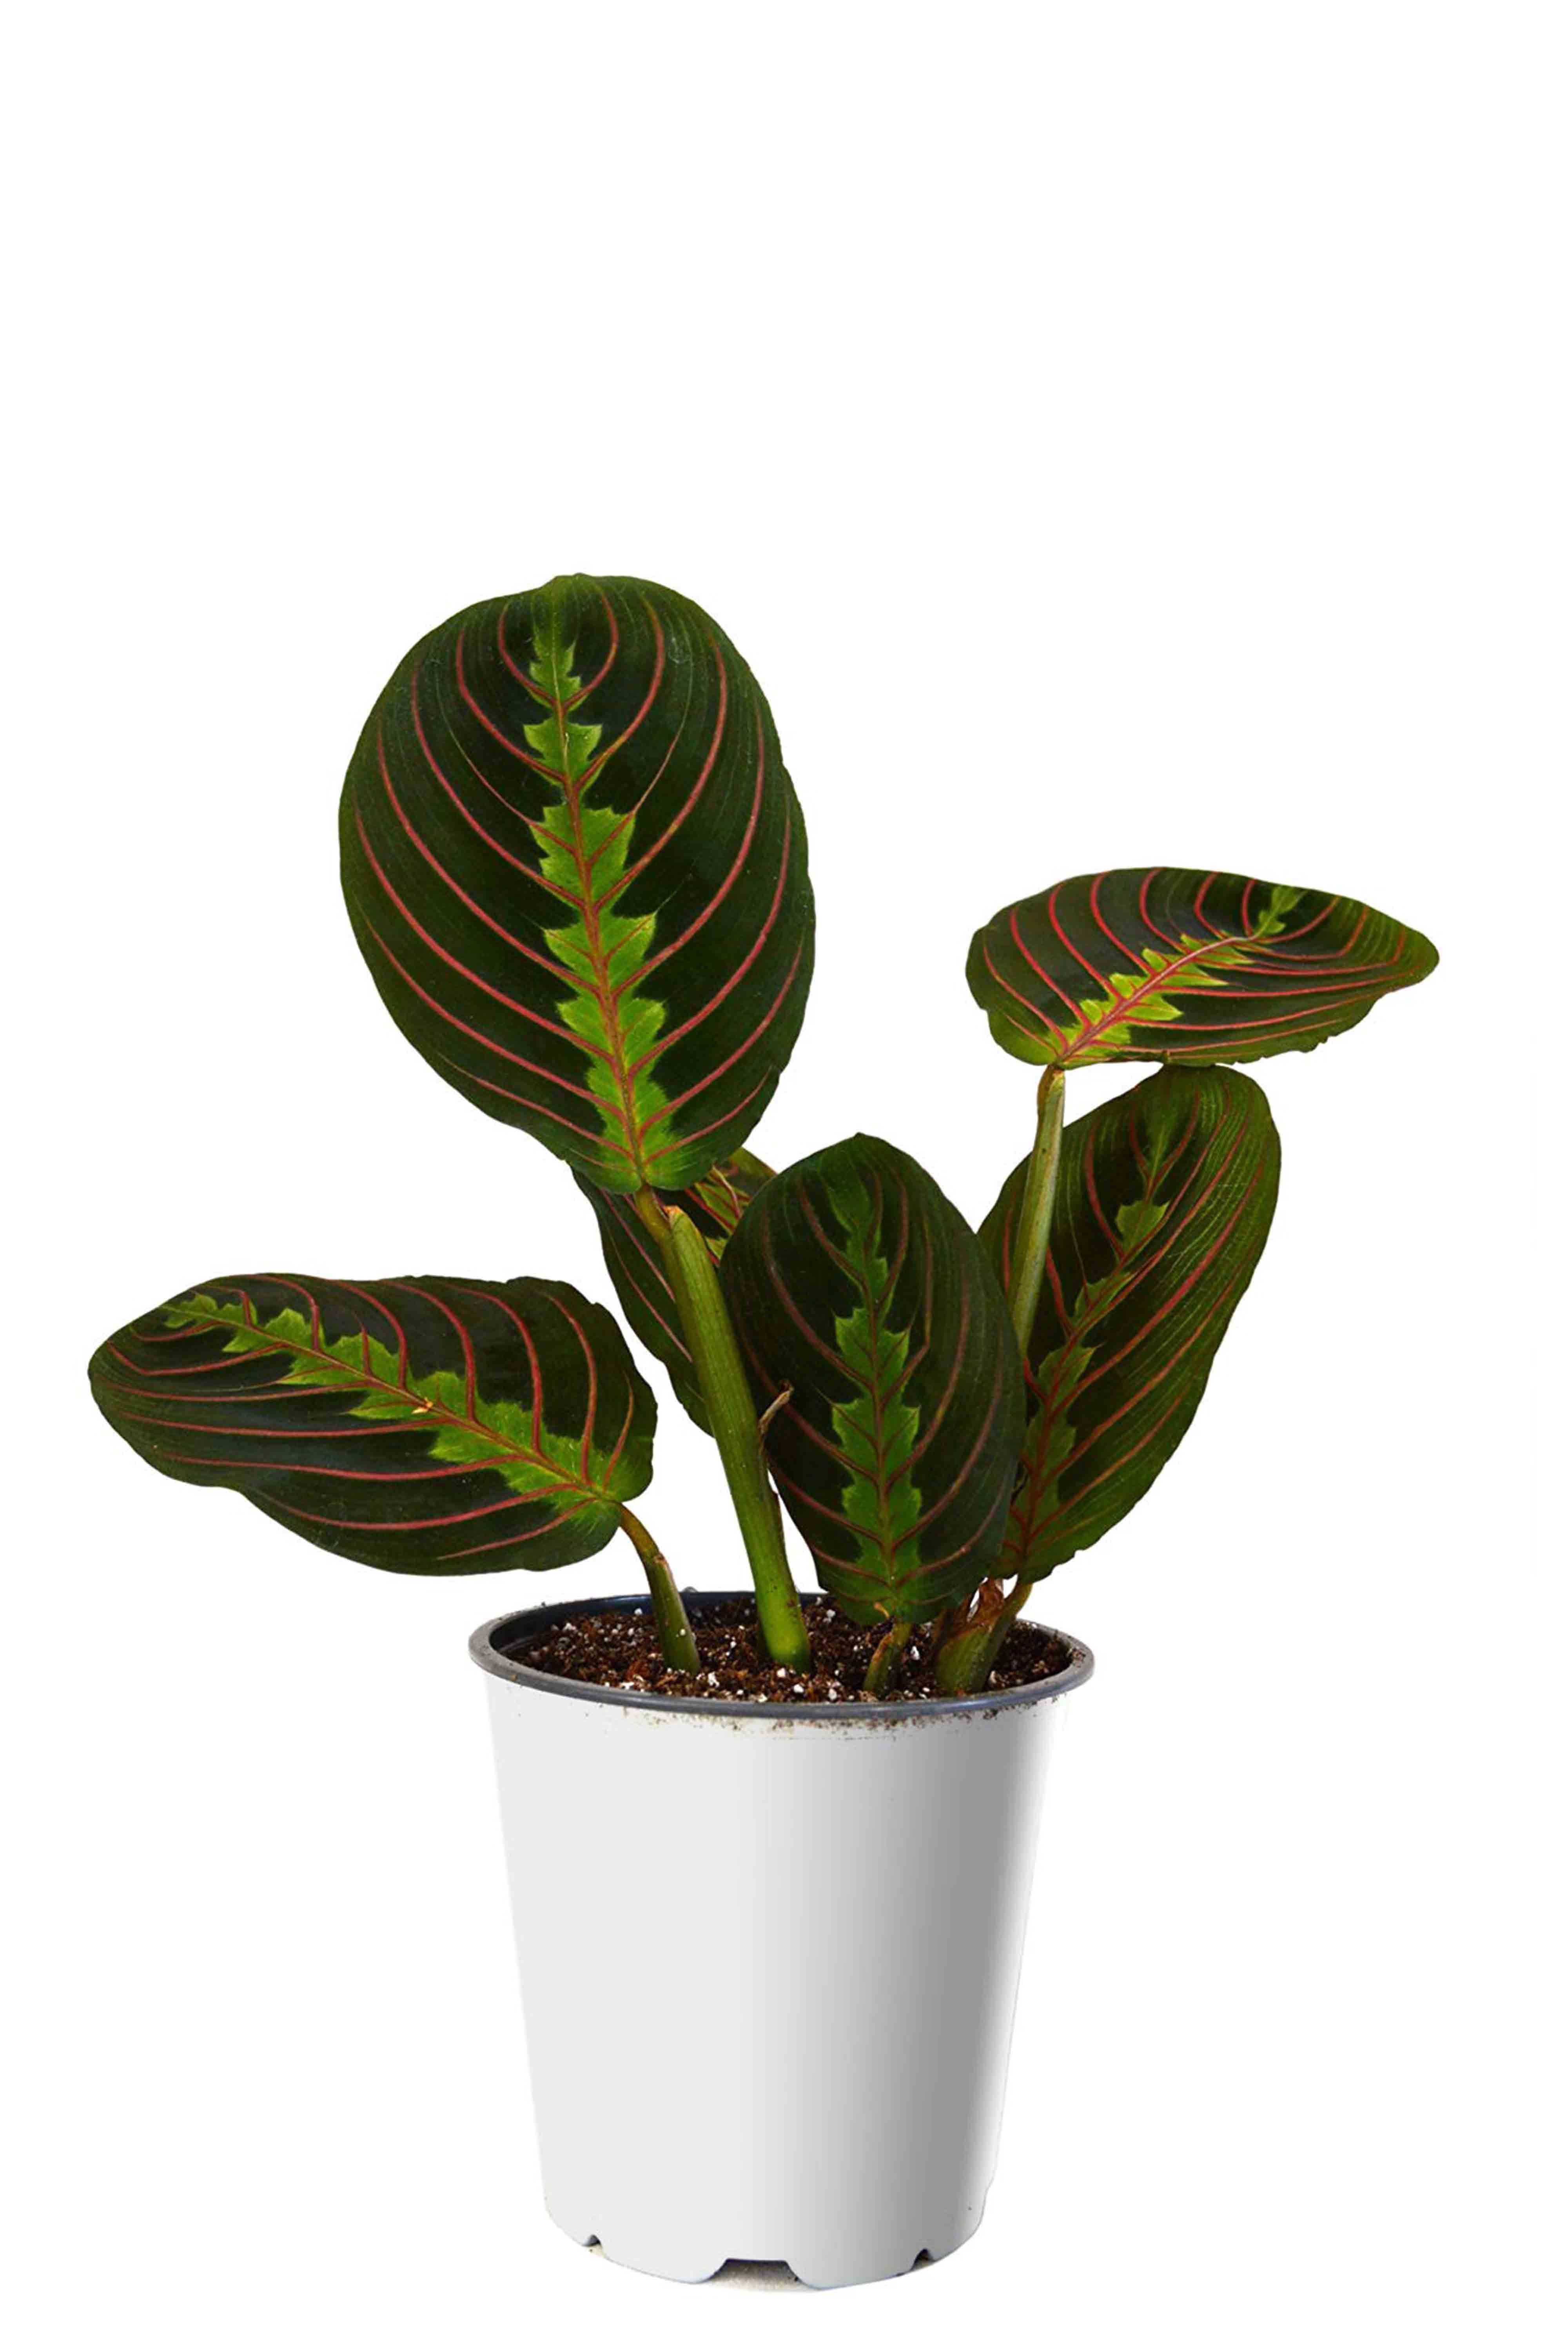plant: (79, 541, 1454, 2308)
